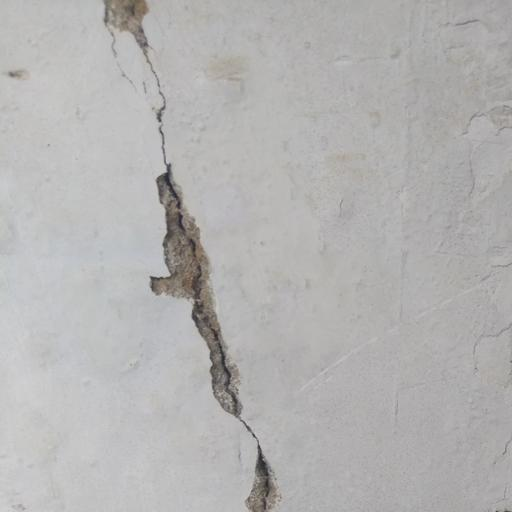spalling: (98, 0, 283, 512)
